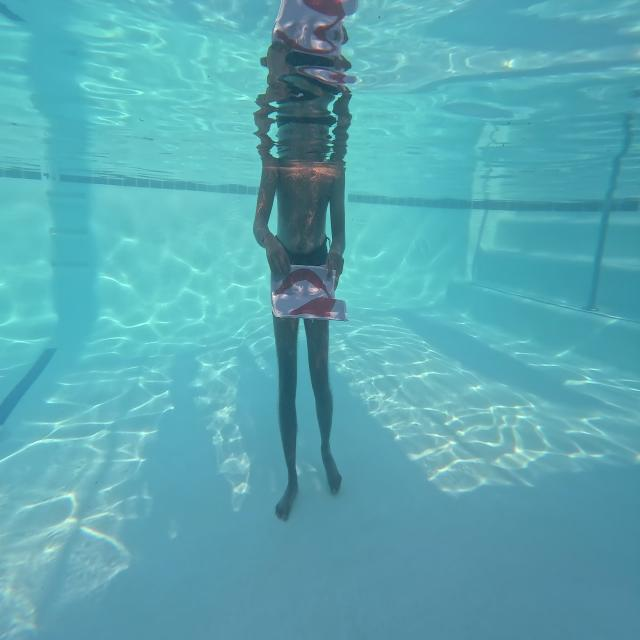red_side: (265, 255, 343, 340)
